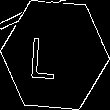L_N: (39, 29, 71, 81)
